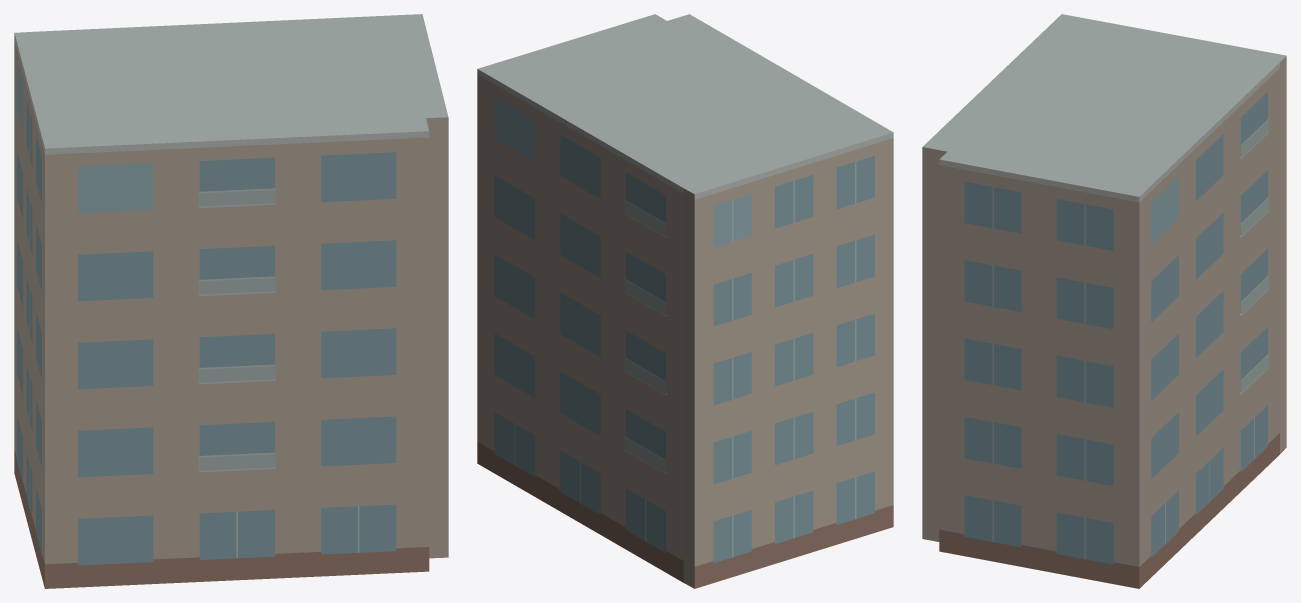
File: survey-upis-32489083.glb
The picture shows the model from 3 angles, left to right: view 1: azimuth 30°, elevation 25°; view 2: azimuth 150°, elevation 25°; view 3: azimuth 270°, elevation 25°; orthographic projection. The views are drawn at different scales.
Visible parts, largest first — view 1: survey-upis-32489083.tmp; view 2: survey-upis-32489083.tmp; view 3: survey-upis-32489083.tmp.
Boxes of the visible parts, x1,y1,x2,y2 form: survey-upis-32489083.tmp: (14, 14, 448, 588); survey-upis-32489083.tmp: (477, 14, 893, 588); survey-upis-32489083.tmp: (922, 14, 1286, 588).
Size of the model in its own units: 17.3 by 17.28 by 14.56.
